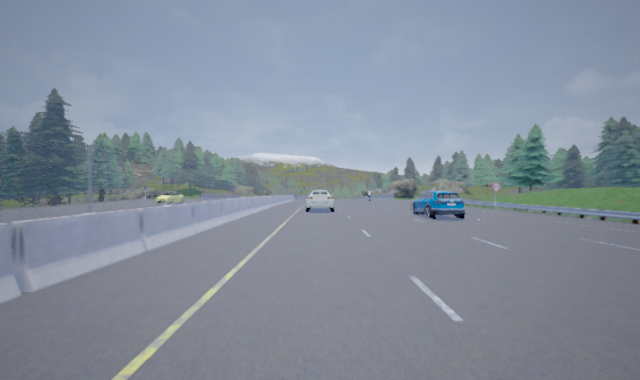vehicle: (410, 189, 465, 220), (305, 189, 334, 212), (155, 191, 186, 205)
